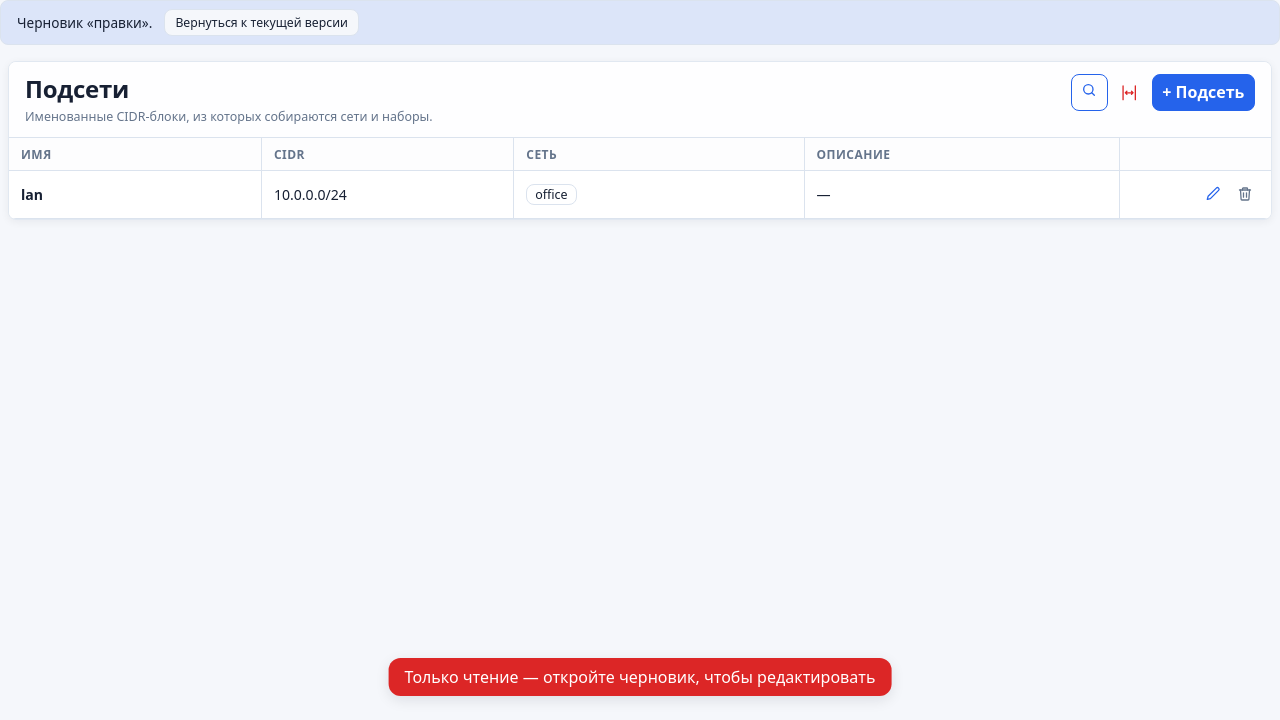
Test: SubnetsPage › rejects an overlapping CIDR
Check: the text "lan" is shown, box [9,170,261,218]
Click the button titled "Добавить подсеть" at [1203, 92], box [1152,74,1255,111]
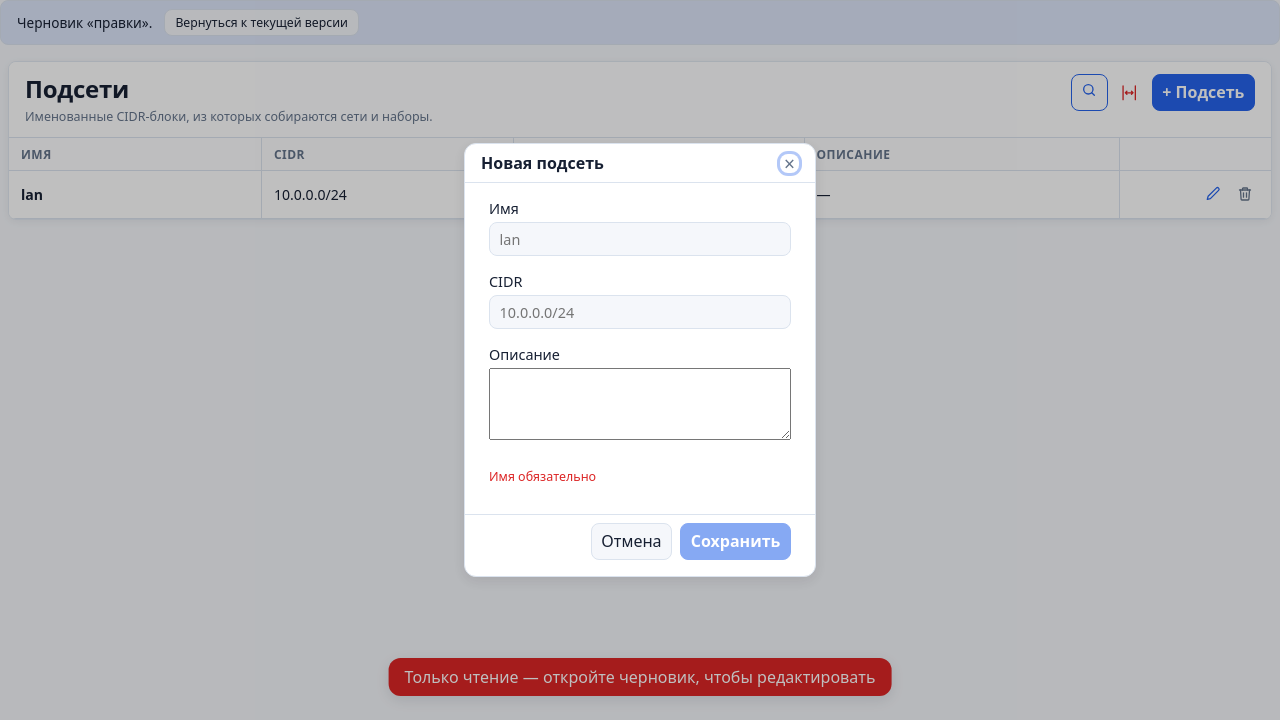
Type "guest" into the field labelled "Имя" at [640, 239], box [489,222,791,256]
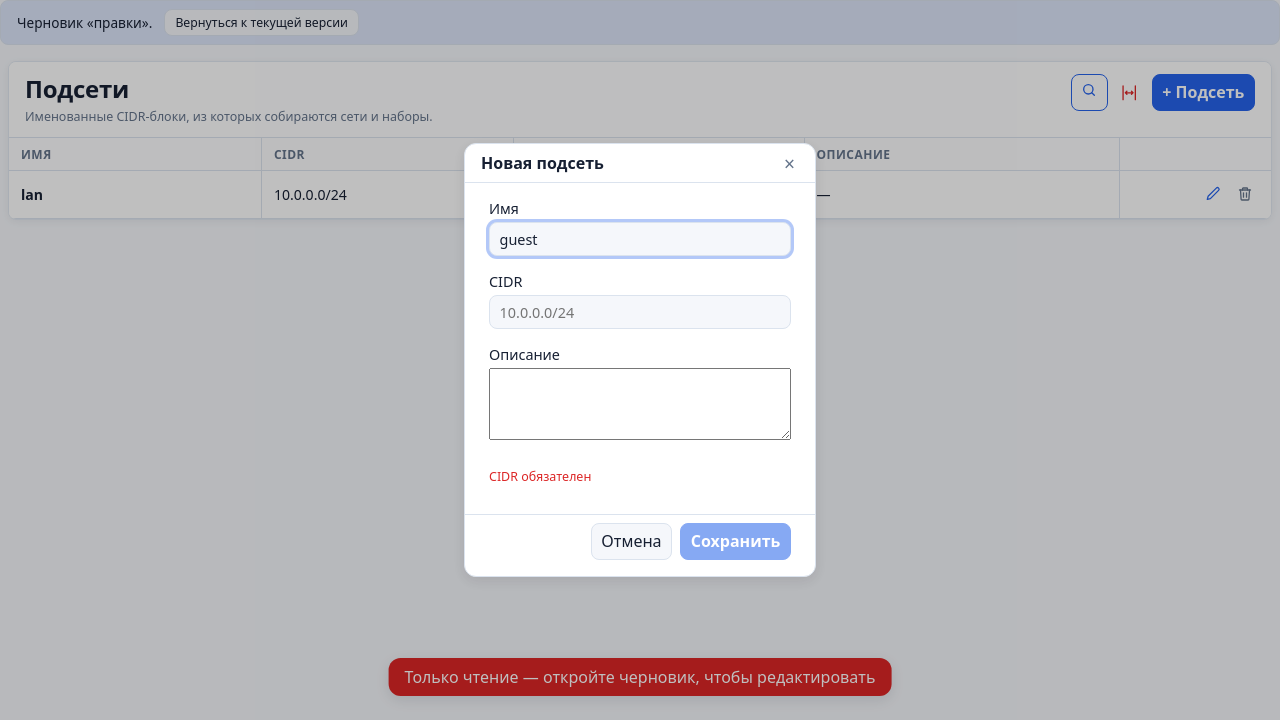
Type "10.0.0.128/25" into the field labelled "CIDR" at [640, 312], box [489,295,791,329]
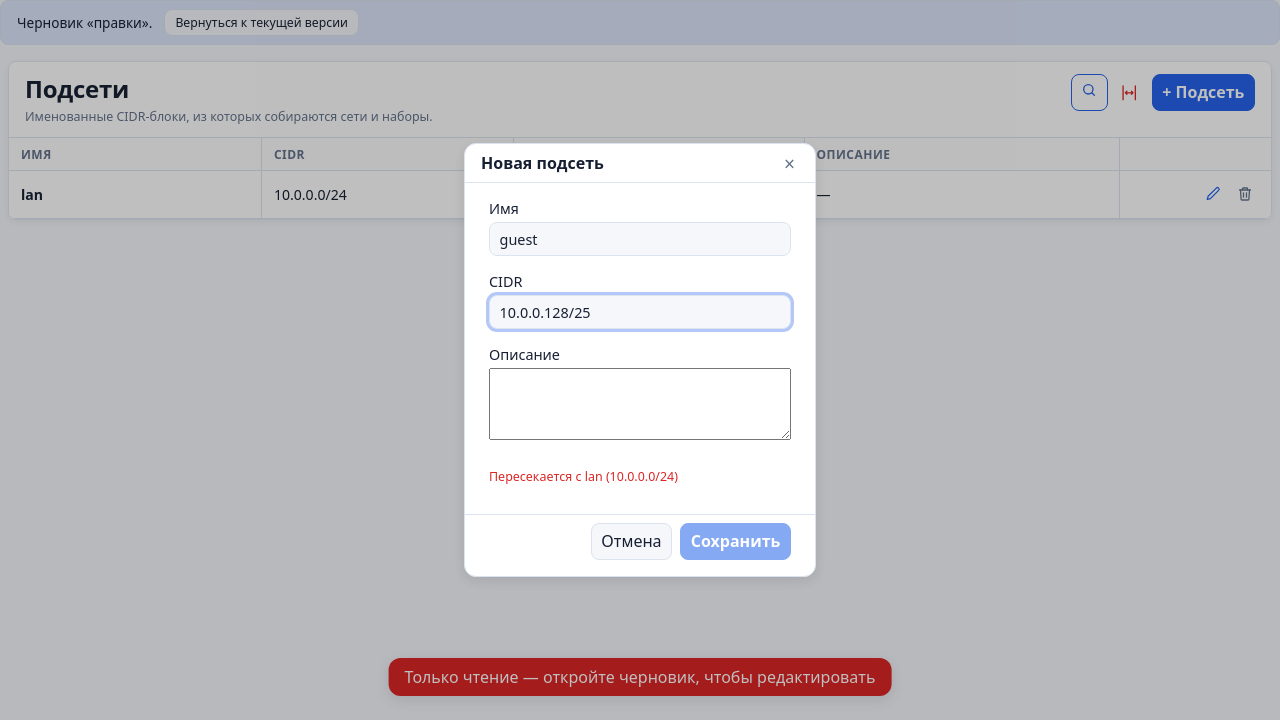
Check: the text "Пересекается с lan (10.0.0.0/24)" is shown, box [489,468,678,485]
